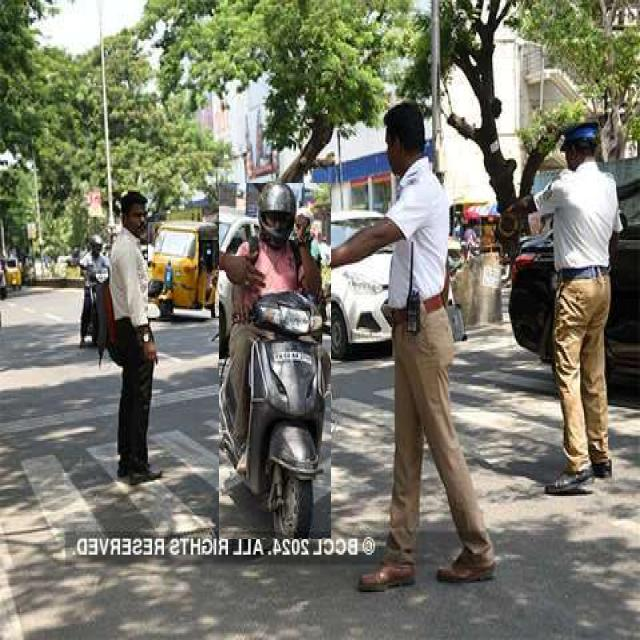autorickshaw: (148, 222, 219, 318)
motorcycle: (219, 184, 331, 539)
